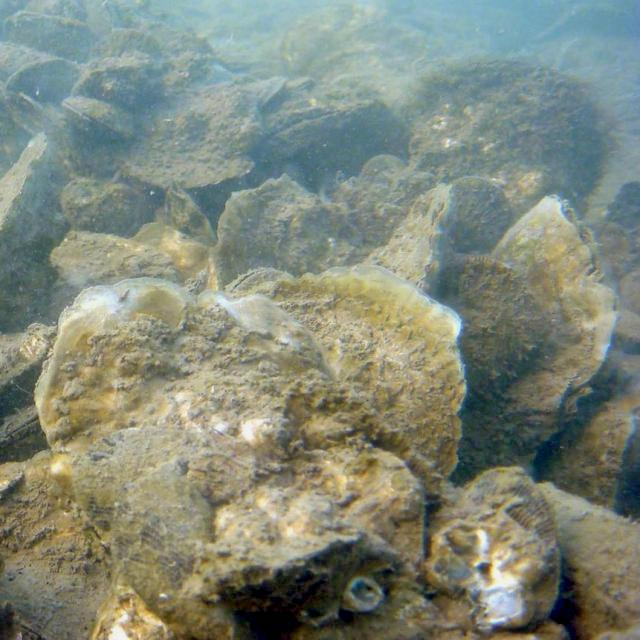Oyster-Closed: (30, 277, 566, 639), (79, 446, 439, 639), (447, 194, 617, 488), (239, 267, 469, 477), (398, 59, 614, 226), (106, 465, 271, 639), (73, 429, 296, 540), (200, 491, 388, 614), (0, 449, 116, 639), (426, 467, 560, 630), (362, 178, 514, 297), (210, 173, 360, 290), (442, 256, 547, 408), (539, 482, 639, 639), (117, 80, 258, 189), (539, 393, 639, 519), (0, 134, 69, 257), (50, 229, 181, 287), (60, 177, 157, 238), (75, 62, 169, 124), (6, 12, 100, 61), (134, 224, 209, 280), (0, 326, 59, 390), (61, 97, 140, 144), (165, 190, 214, 248), (10, 60, 77, 102), (590, 220, 630, 280), (92, 32, 164, 59), (605, 182, 639, 231), (359, 154, 407, 181), (245, 76, 285, 106), (290, 77, 313, 92)
Oyster-Open: (249, 101, 374, 164), (225, 267, 295, 293), (0, 406, 41, 445)
